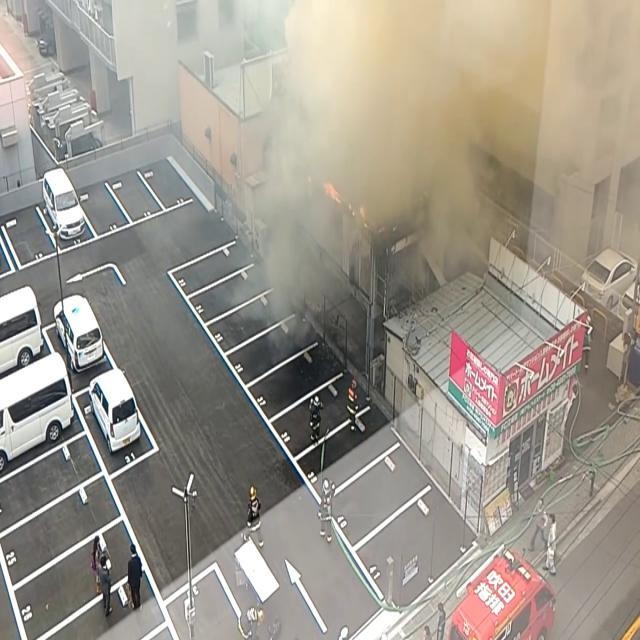Smoke: (223, 0, 520, 308)
